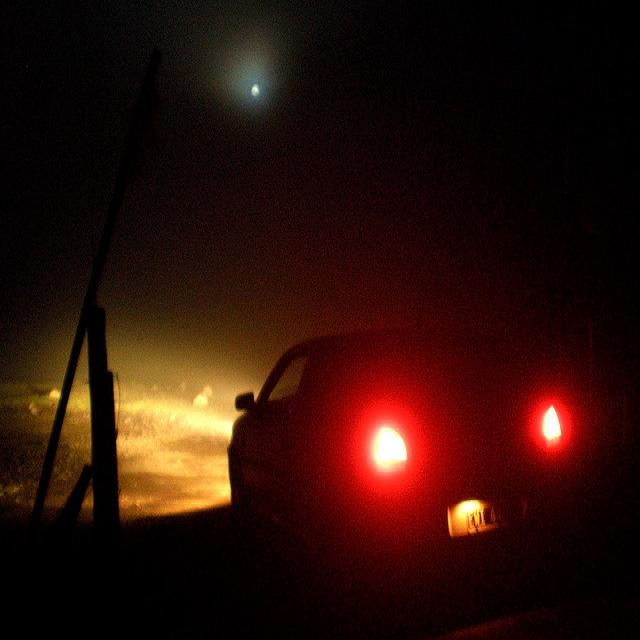Car: (202, 296, 620, 614)
